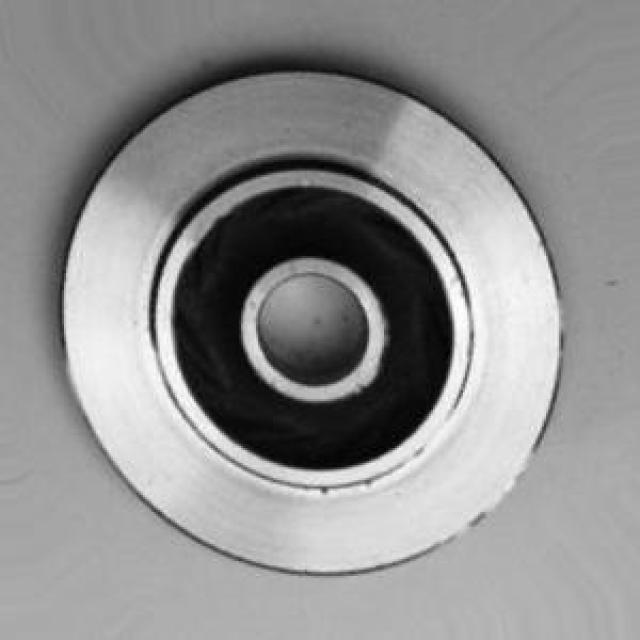Defect: (313, 479, 330, 502)
